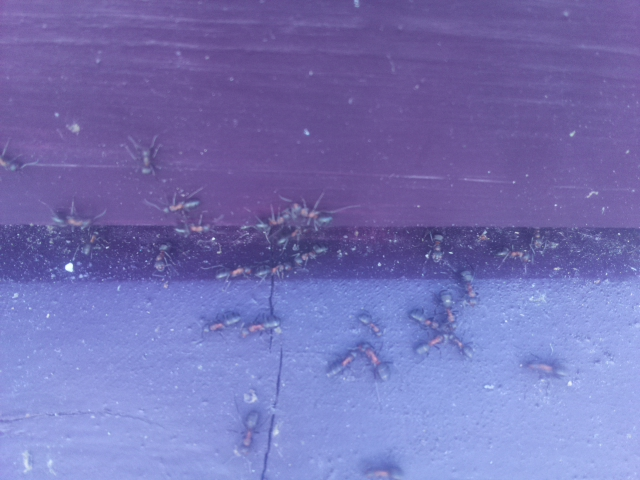ant: (264, 199, 329, 227), (127, 135, 165, 181), (355, 340, 392, 385), (233, 404, 262, 459), (50, 203, 90, 232), (421, 227, 449, 268), (241, 313, 283, 340), (164, 194, 206, 216), (455, 267, 480, 303), (436, 288, 459, 327), (204, 310, 239, 335), (357, 308, 381, 341), (414, 333, 446, 357), (151, 239, 174, 272)
